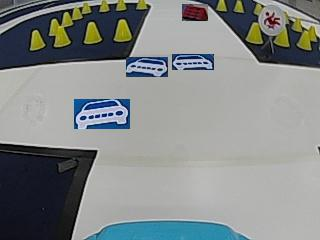cone: (83, 21, 101, 44), (245, 22, 263, 44), (114, 19, 131, 42), (53, 27, 69, 47), (29, 29, 44, 50), (297, 30, 311, 50), (275, 29, 289, 47), (60, 10, 72, 27), (48, 17, 58, 35), (71, 6, 82, 20), (233, 0, 244, 13), (292, 17, 302, 31), (216, 0, 227, 11), (99, 0, 109, 12), (116, 0, 126, 11), (136, 0, 147, 10), (82, 2, 91, 14)
tumble: (260, 9, 285, 31)
